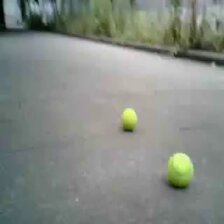tennis: (166, 152, 193, 186), (123, 108, 138, 131)
